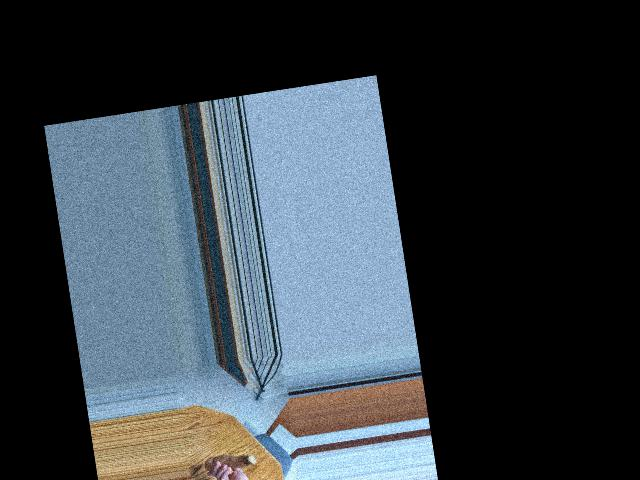sweet_potato: (205, 449, 258, 477)
